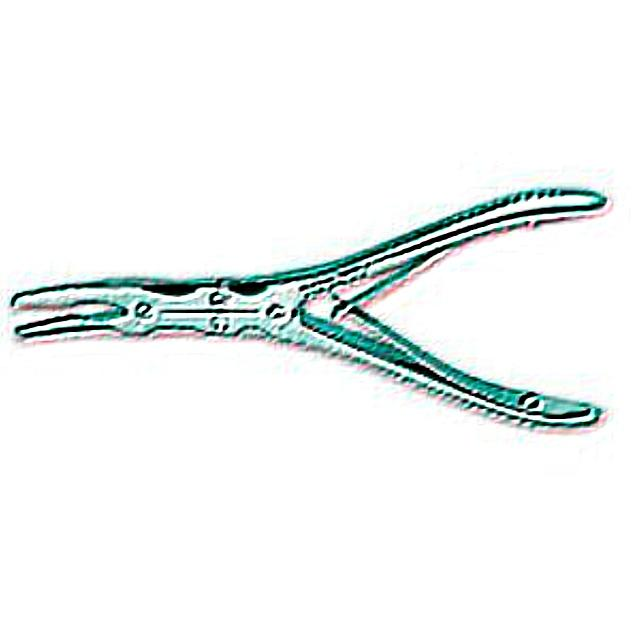gubia: (10, 185, 615, 436)
